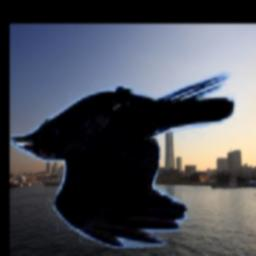Crow: (11, 73, 236, 249)
